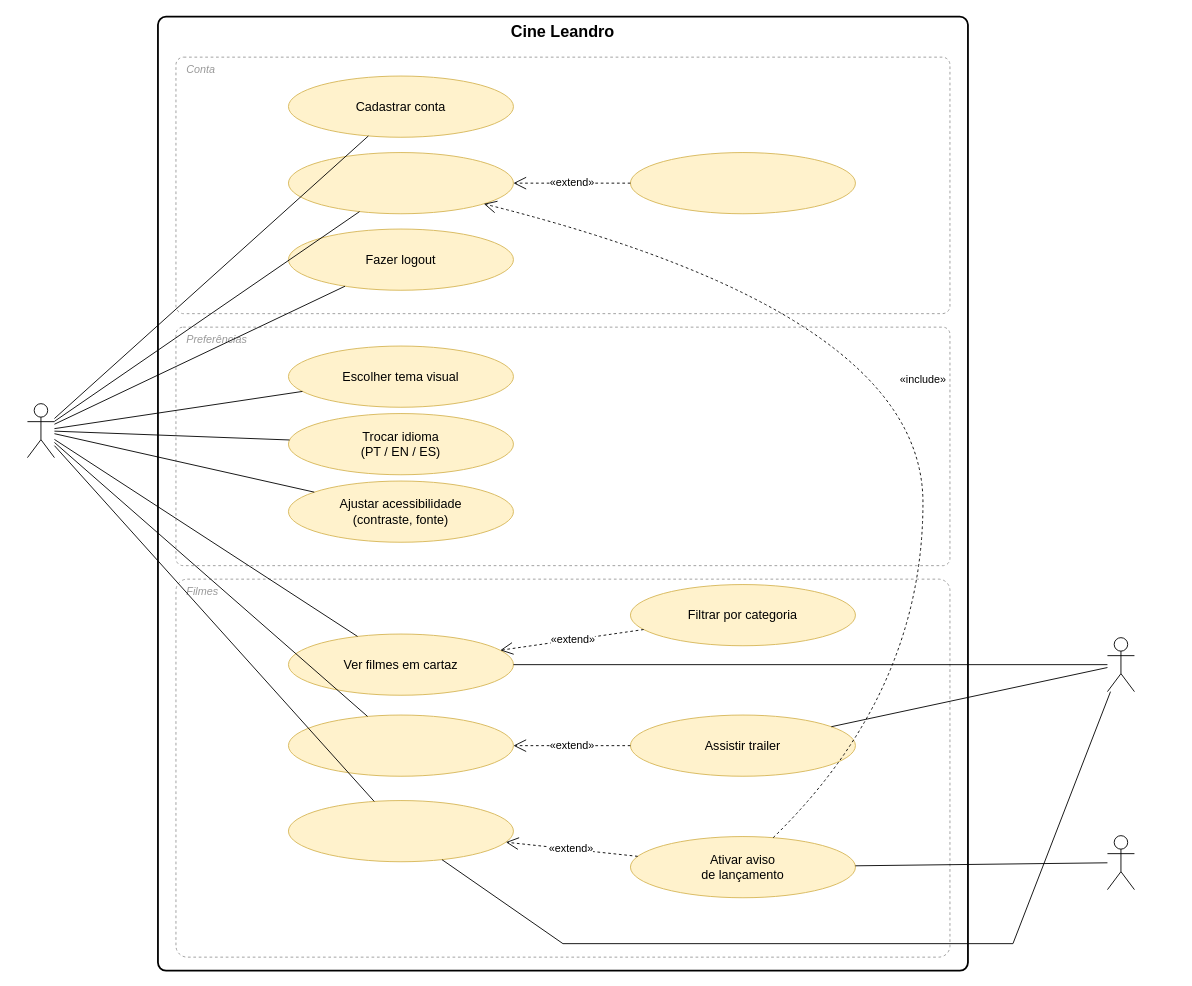
Some shapes in this 1192 by 986 pixel diagram are drawn without their labels. Each missing label, with the centre of its shape:
Fazer login: (x=400, y=183)
Recuperar senha: (x=742, y=183)
Serviço de e-mail notificações: (x=1120, y=862)
TMDB API de filmes: (x=1120, y=664)
Usuário: (x=40, y=430)
Ver próximos lançamentos: (x=400, y=831)
Ver sinopse do filme: (x=400, y=745)
